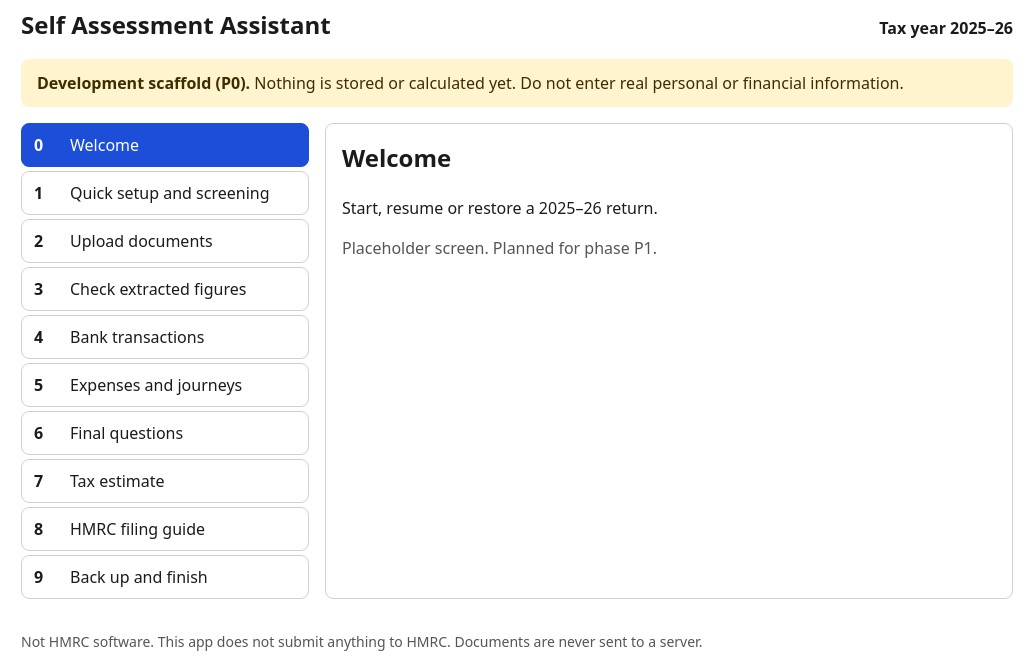
Test: App shell (P0 placeholder) › starts on Welcome and moves to a step when it is chosen
expect the heading "Welcome" is shown: met, box x1=342 y1=141 x2=451 y2=174
Click the button "2 Upload documents": (165, 241) x1=21 y1=219 x2=309 y2=263
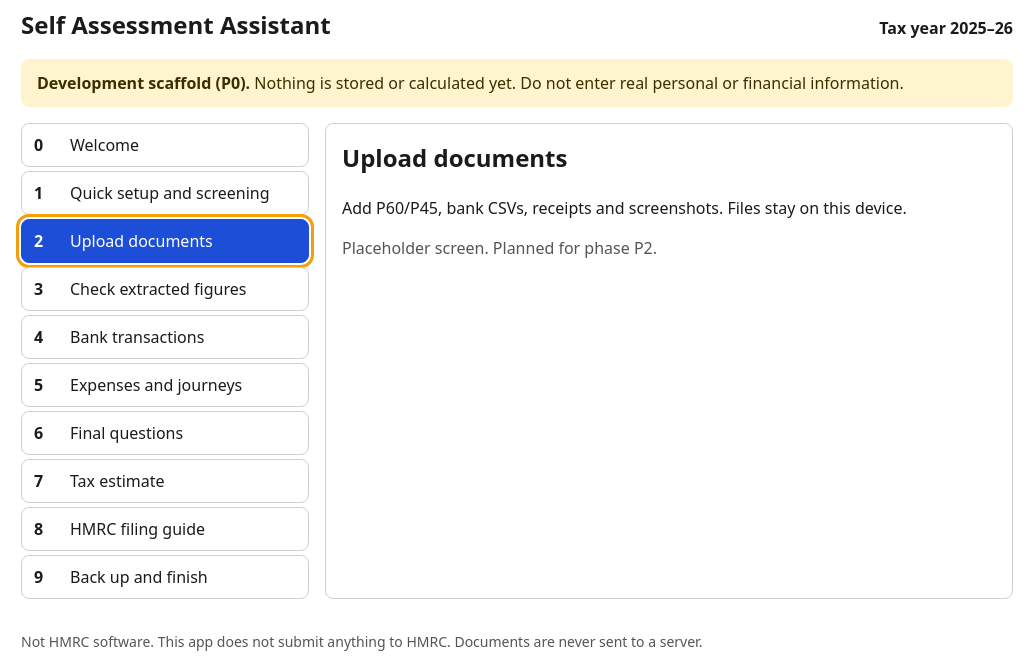
expect the heading "Upload documents" is shown: met, box x1=342 y1=141 x2=568 y2=174
